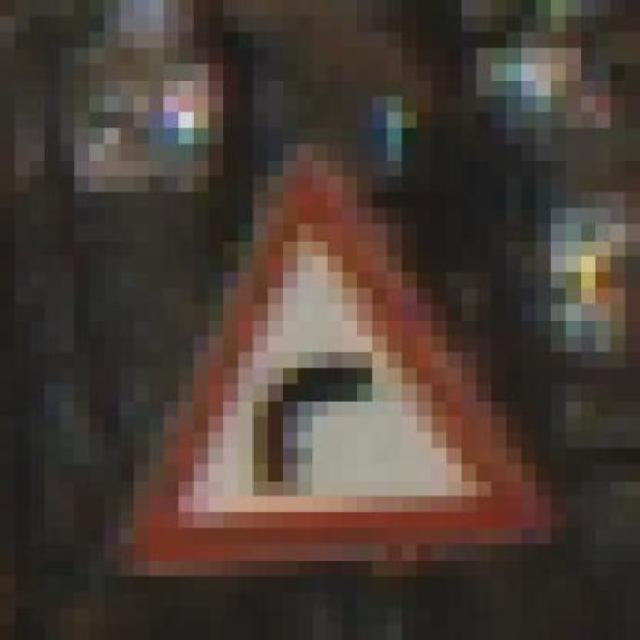Dangerous Rright Curve Ahead: (89, 112, 551, 576)
